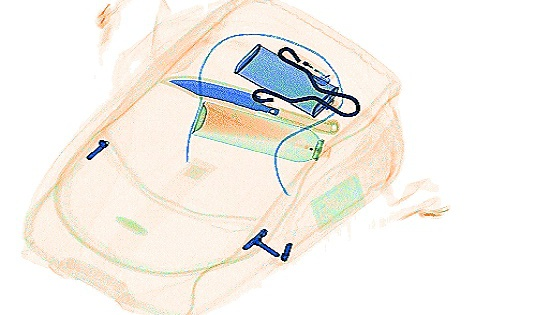knife: (157, 72, 339, 134)
lighter: (279, 46, 333, 85)
pressure: (191, 99, 332, 162)
slingshot: (249, 44, 360, 117)
zippooil: (232, 41, 339, 117)
